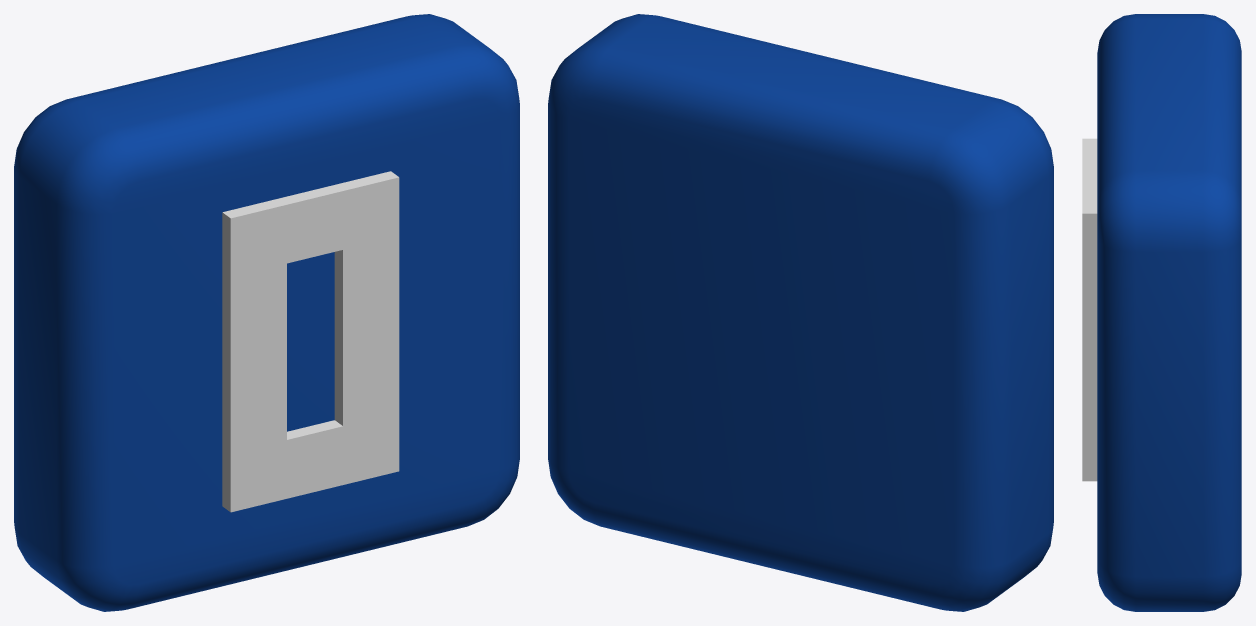
The model's file is keycap_0.gltf.
3 views of the same model, side by side, from view 1: azimuth 30°, elevation 25°; view 2: azimuth 150°, elevation 25°; view 3: azimuth 270°, elevation 25° (orthographic). The views are drawn at different scales.
Visible parts, largest first — view 1: Cube.6672, Cube.6671; view 2: Cube.6672; view 3: Cube.6672, Cube.6671.
Part boxes in pixels (x1,y1,x2,y2): Cube.6672: [14, 14, 519, 611]; Cube.6671: [222, 171, 399, 512]; Cube.6672: [548, 14, 1053, 611]; Cube.6672: [1097, 14, 1241, 611]; Cube.6671: [1082, 138, 1097, 481].
Bounding box in the file's own units: 2.2 × 2.2 × 0.73.
1 material, 1 textured.
